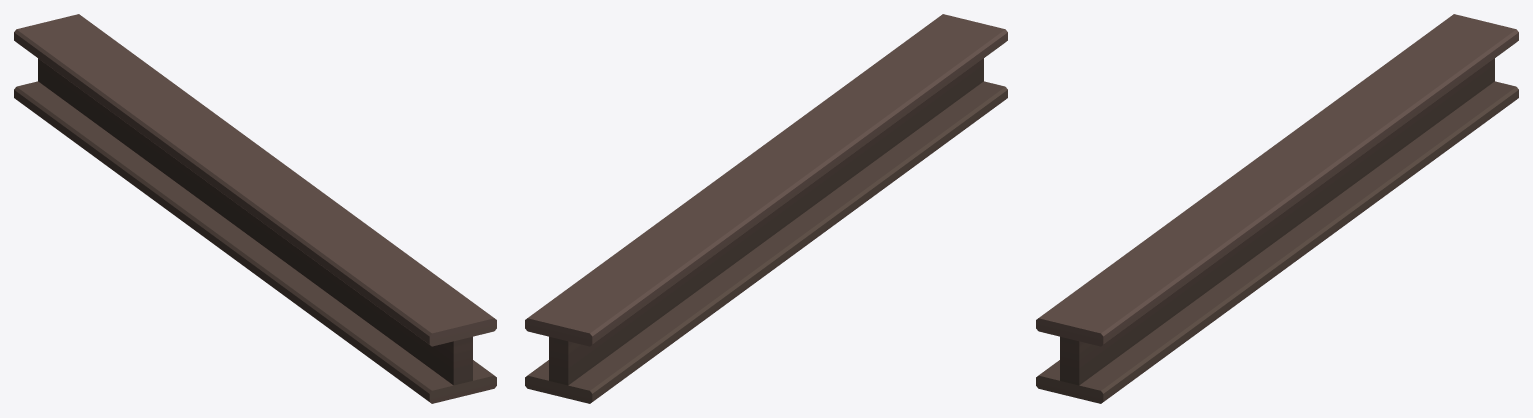
File: Rail_C_1_2.fbx
3 views of the same model, side by side, from view 1: azimuth 30°, elevation 25°; view 2: azimuth 150°, elevation 25°; view 3: azimuth 330°, elevation 25° (orthographic).
Parts seen in each view (by area): view 1: Rail_C_1_2; view 2: Rail_C_1_2; view 3: Rail_C_1_2.
Part boxes in pixels (bbox=[...]): Rail_C_1_2: bbox=[14, 14, 496, 403]; Rail_C_1_2: bbox=[525, 14, 1007, 403]; Rail_C_1_2: bbox=[1036, 14, 1518, 403].
Size of the model in its own units: 37.43 by 37.43 by 400.
